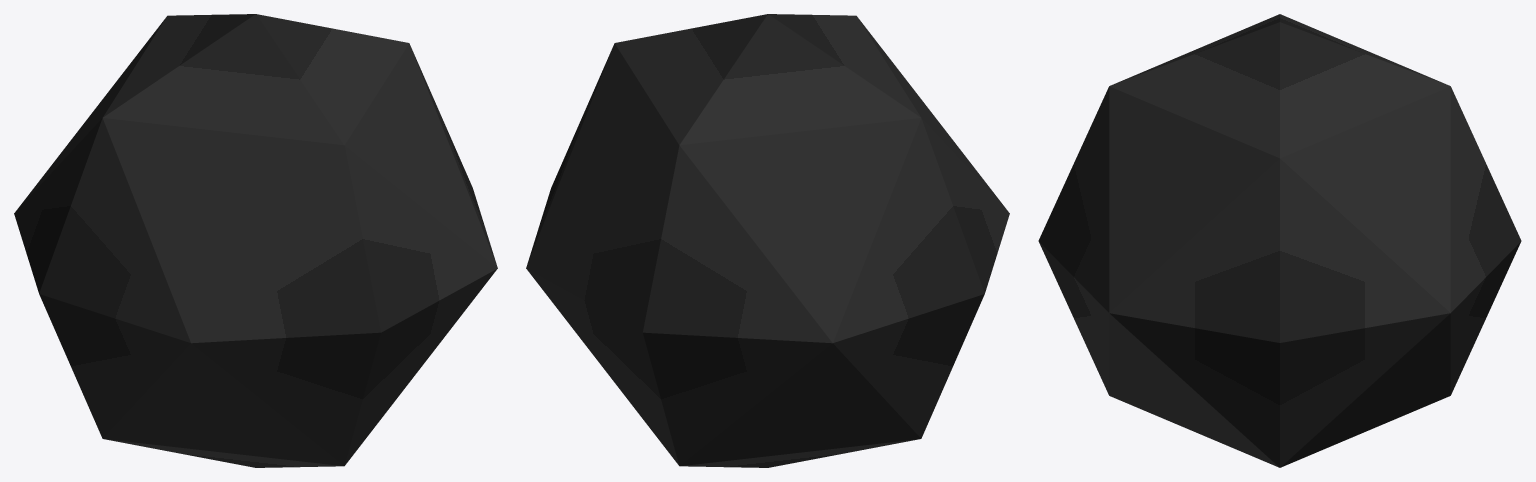
Rendered from tungsten_pipe_core.obj.
The picture shows the model from 3 angles, left to right: view 1: azimuth 30°, elevation 25°; view 2: azimuth 150°, elevation 25°; view 3: azimuth 270°, elevation 25°; orthographic projection. The views are drawn at different scales.
Parts seen in each view (by area): view 1: core; view 2: core; view 3: core.
Part boxes in pixels (bbox=[...]): core: bbox=[14, 14, 497, 467]; core: bbox=[526, 14, 1009, 467]; core: bbox=[1038, 14, 1521, 467].
Size of the model in its own units: 0.375 by 0.375 by 0.375.
